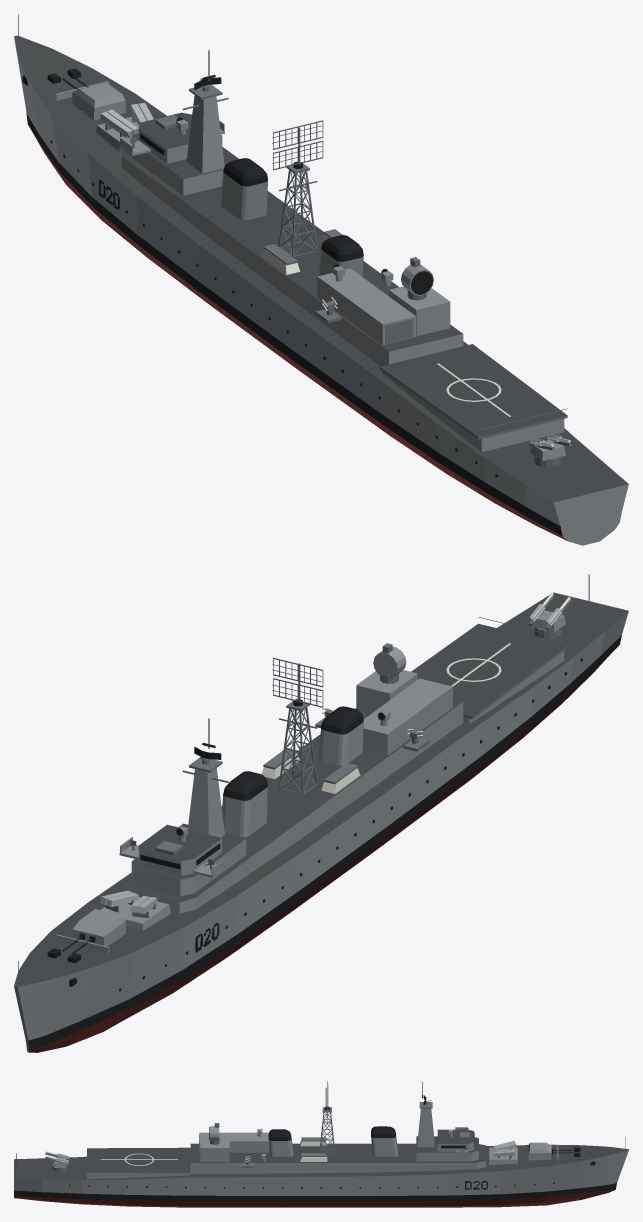
Rendered from county.glb.
The picture shows the model from 3 angles, top to bottom: view 1: azimuth 30°, elevation 25°; view 2: azimuth 150°, elevation 25°; view 3: azimuth 270°, elevation 25°; orthographic projection. The views are drawn at different scales.
Parts seen in each view (by area): view 1: Hull, Deckhouse 01, Flight deck, Hangar, Mainmast, Foremast, Bridge 02, Magazine, 901 block, Fwd funnel, Bridge, 4.5in A house (+2 smaller); view 2: Hull, Deckhouse 01, Flight deck, Hangar, Mainmast, Bridge 02, Bridge, Foremast, Fwd funnel, 901 block, 4.5in A house, Aft funnel (+5 smaller); view 3: Hull, Deckhouse 01, Flight deck, Hangar, Bridge 02, Bridge, 901 block, Foremast, Mainmast, Fwd funnel, Magazine, 4.5in A house (+4 smaller).
Part boxes in pixels (box(x1,y1,x2,y2)): Hull: box(14, 35, 628, 545); Deckhouse 01: box(119, 147, 463, 366); Flight deck: box(379, 344, 567, 439); Hangar: box(317, 268, 415, 345); Mainmast: box(272, 120, 323, 257); Foremast: box(186, 95, 224, 173); Bridge 02: box(131, 133, 239, 195); Magazine: box(382, 372, 564, 452); 901 block: box(389, 286, 450, 336); Fwd funnel: box(220, 172, 267, 220); Bridge: box(138, 112, 222, 163); 4.5in A house: box(72, 83, 125, 120); Hull: box(14, 592, 628, 1052); Deckhouse 01: box(119, 699, 463, 913); Flight deck: box(411, 623, 567, 719); Hangar: box(363, 678, 452, 755); Mainmast: box(272, 657, 323, 794); Bridge 02: box(131, 823, 246, 896); Bridge: box(138, 824, 222, 875); Foremast: box(188, 768, 224, 837); Fwd funnel: box(222, 786, 267, 837); 901 block: box(356, 670, 417, 714); 4.5in A house: box(72, 909, 125, 946); Aft funnel: box(318, 722, 363, 765); Hull: box(14, 1144, 628, 1207); Deckhouse 01: box(190, 1143, 486, 1173); Flight deck: box(87, 1147, 190, 1173); Hangar: box(199, 1132, 269, 1152); Bridge 02: box(416, 1136, 478, 1161); Bridge: box(437, 1129, 474, 1151); 901 block: box(200, 1139, 229, 1161); Foremast: box(417, 1108, 434, 1147); Mainmast: box(319, 1081, 334, 1156); Fwd funnel: box(371, 1135, 397, 1156); Magazine: box(87, 1173, 190, 1179); 4.5in A house: box(528, 1142, 551, 1160).
Bounding box in the file's own units: 16.71 × 34.7 × 159.
